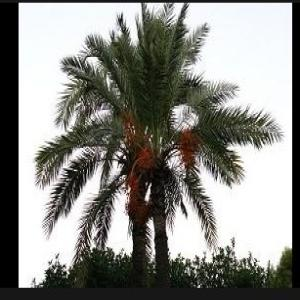palm tree: (33, 2, 284, 286)
